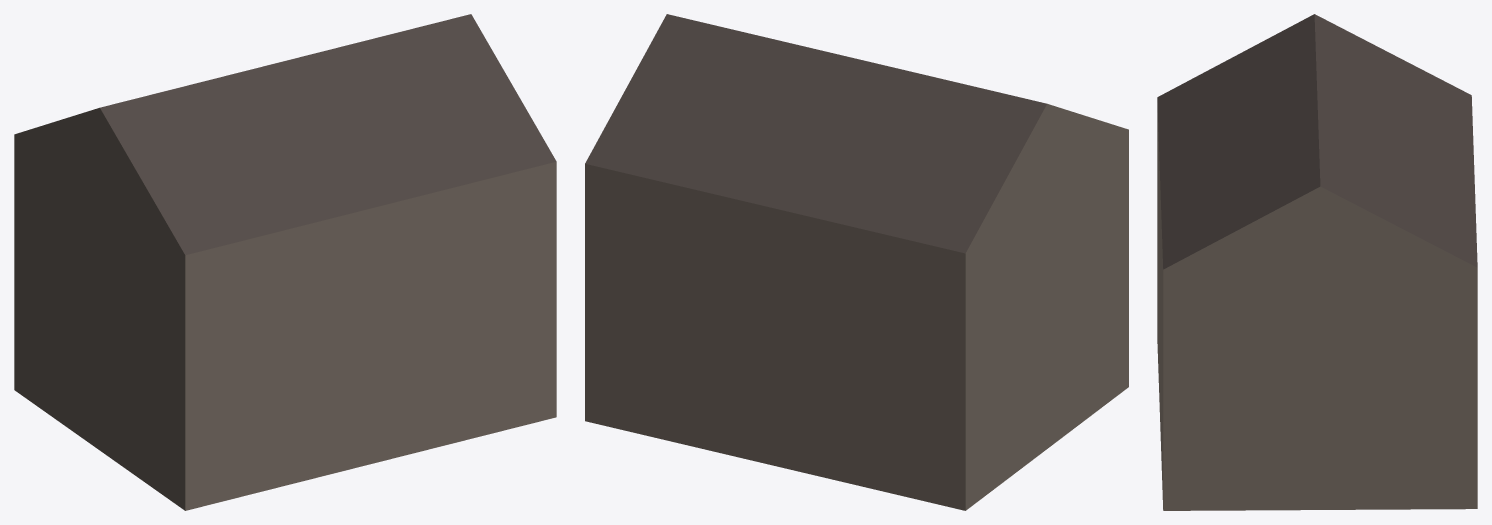
The picture shows the model from 3 angles, left to right: view 1: azimuth 30°, elevation 25°; view 2: azimuth 150°, elevation 25°; view 3: azimuth 270°, elevation 25°; orthographic projection. The views are drawn at different scales.
Visible parts, largest first — view 1: HP-w369317547; view 2: HP-w369317547; view 3: HP-w369317547.
Part boxes in pixels (left/top/right/bottom): HP-w369317547: left=14, top=14, right=556, bottom=510; HP-w369317547: left=585, top=14, right=1128, bottom=510; HP-w369317547: left=1157, top=14, right=1477, bottom=510.
Bounding box in the file's own units: 13.96 × 12.07 × 10.83.
